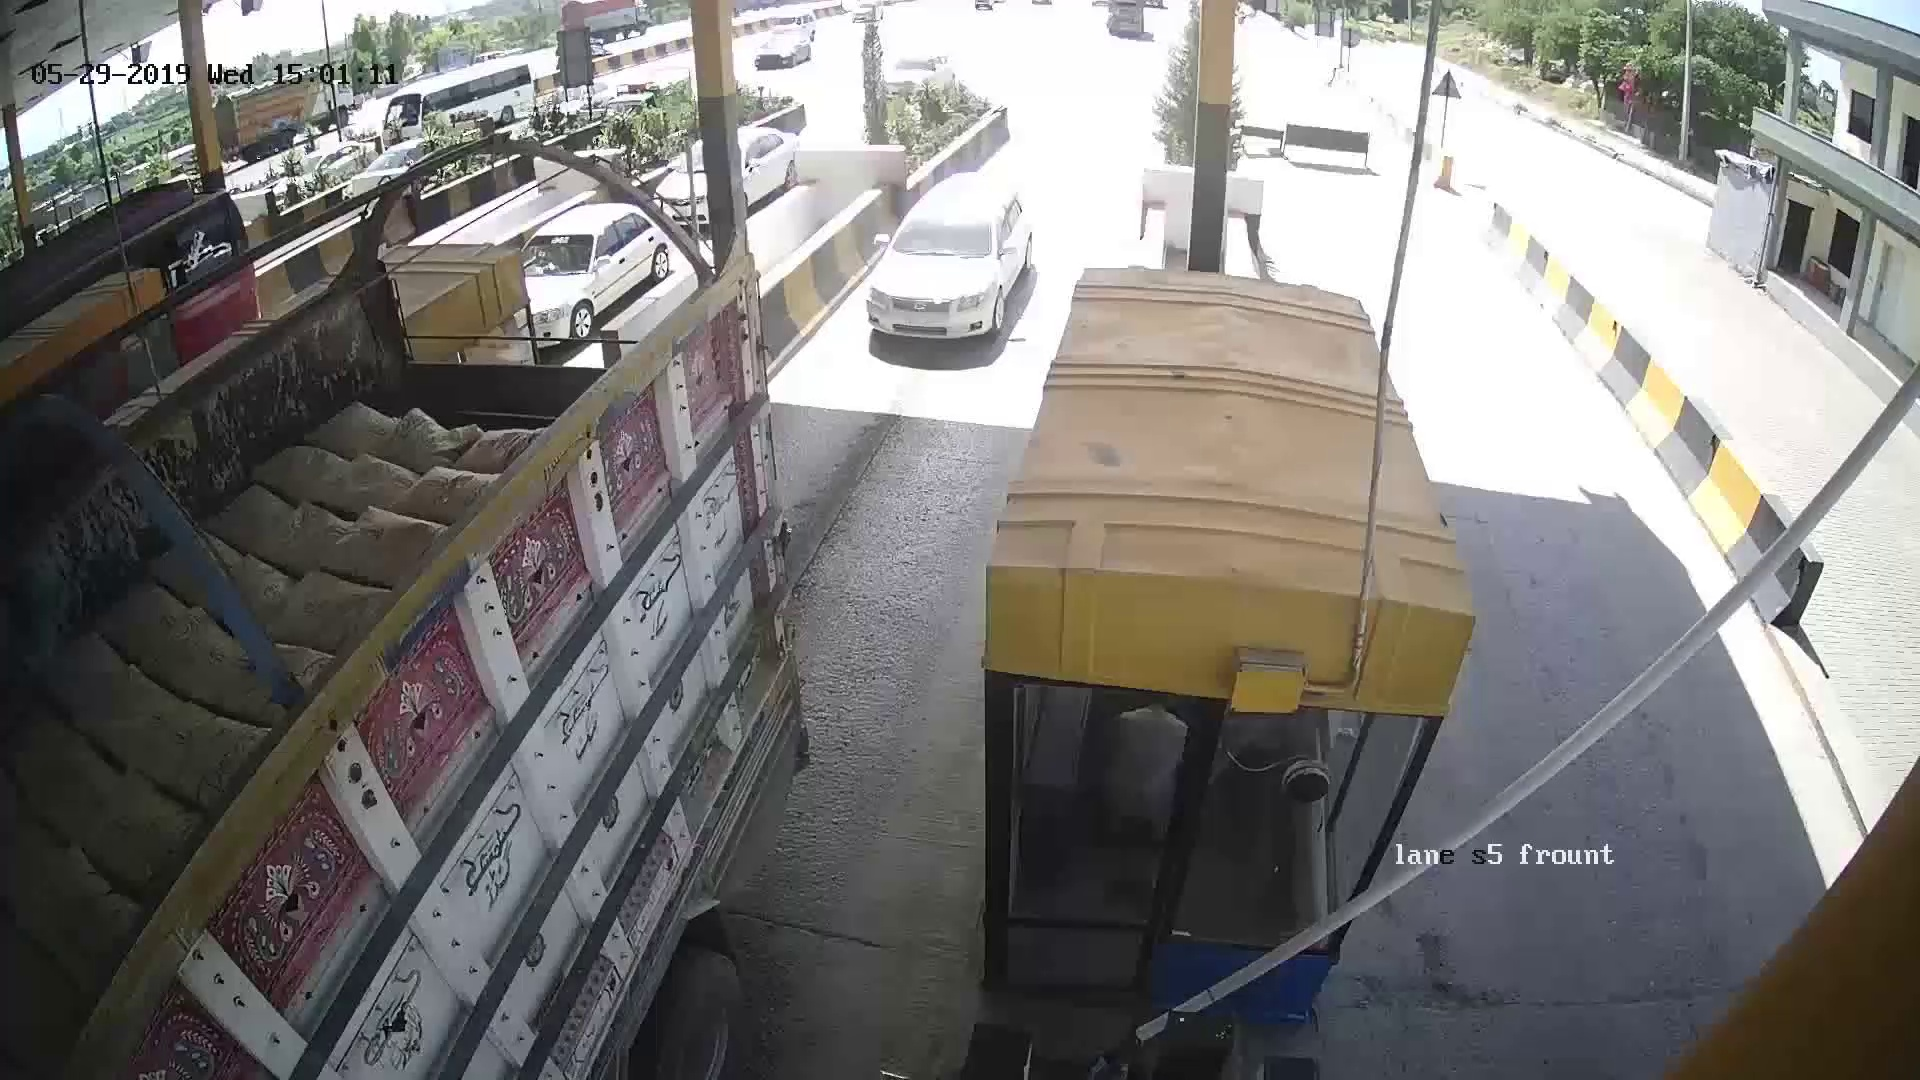car: (874, 200, 1038, 371)
truck: (105, 464, 676, 945)
